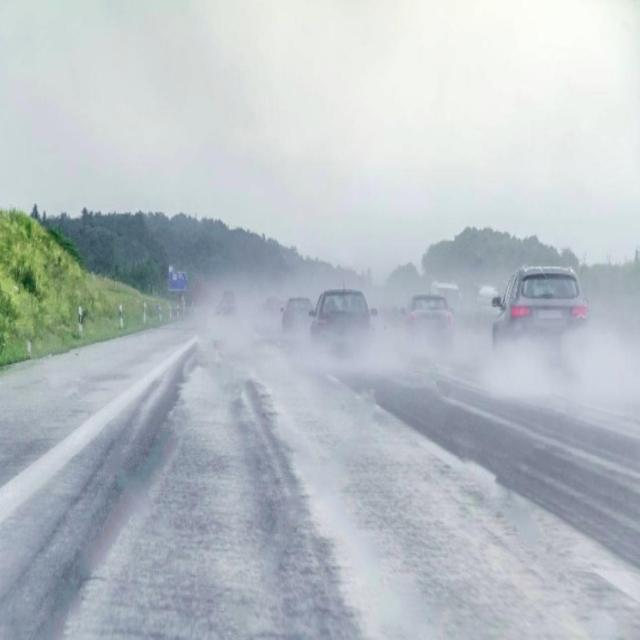Car: (488, 267, 589, 359), (308, 288, 378, 362), (400, 292, 456, 356), (279, 298, 314, 338)
